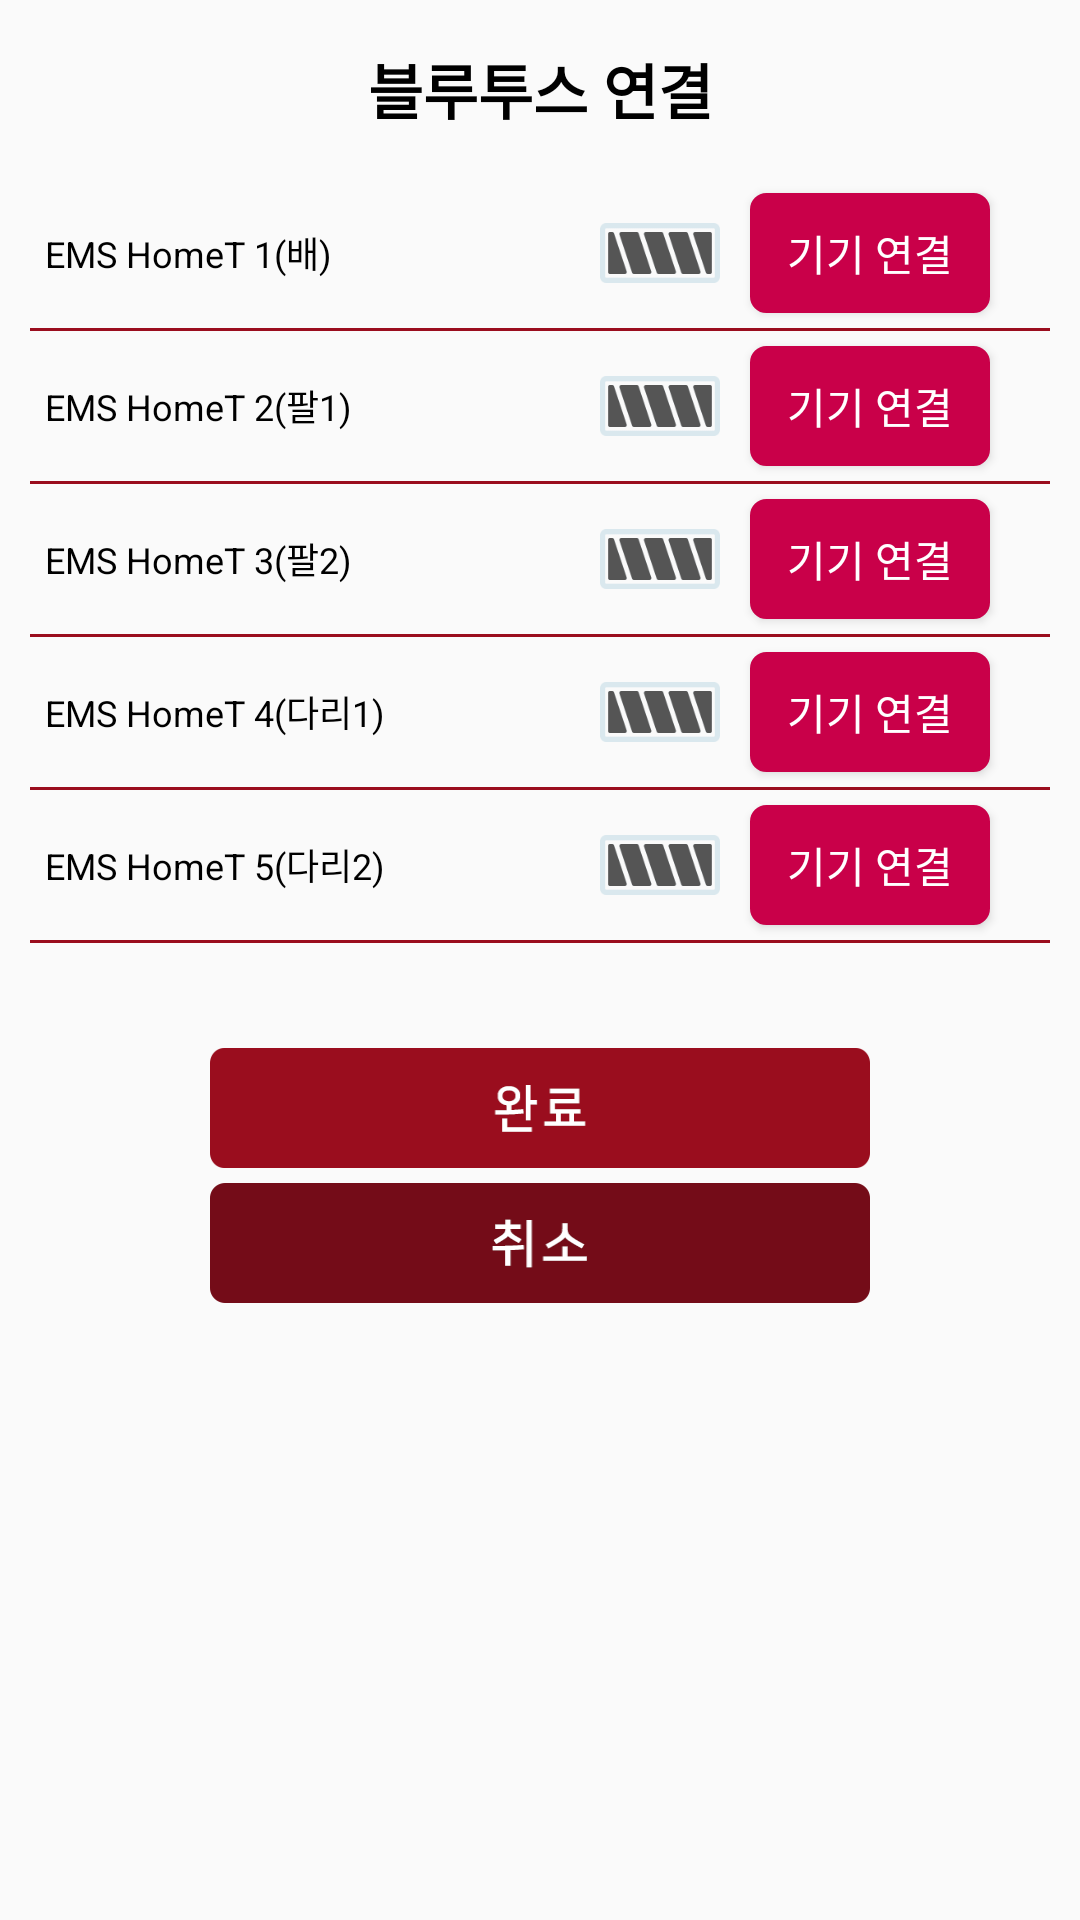

Screen size 1080x1920. Icon name, then its box in pixels as (x1, y1, x2, y2):
battery: (600, 223, 720, 283), (600, 376, 720, 436), (600, 529, 720, 589), (600, 682, 720, 742), (600, 835, 720, 895)
